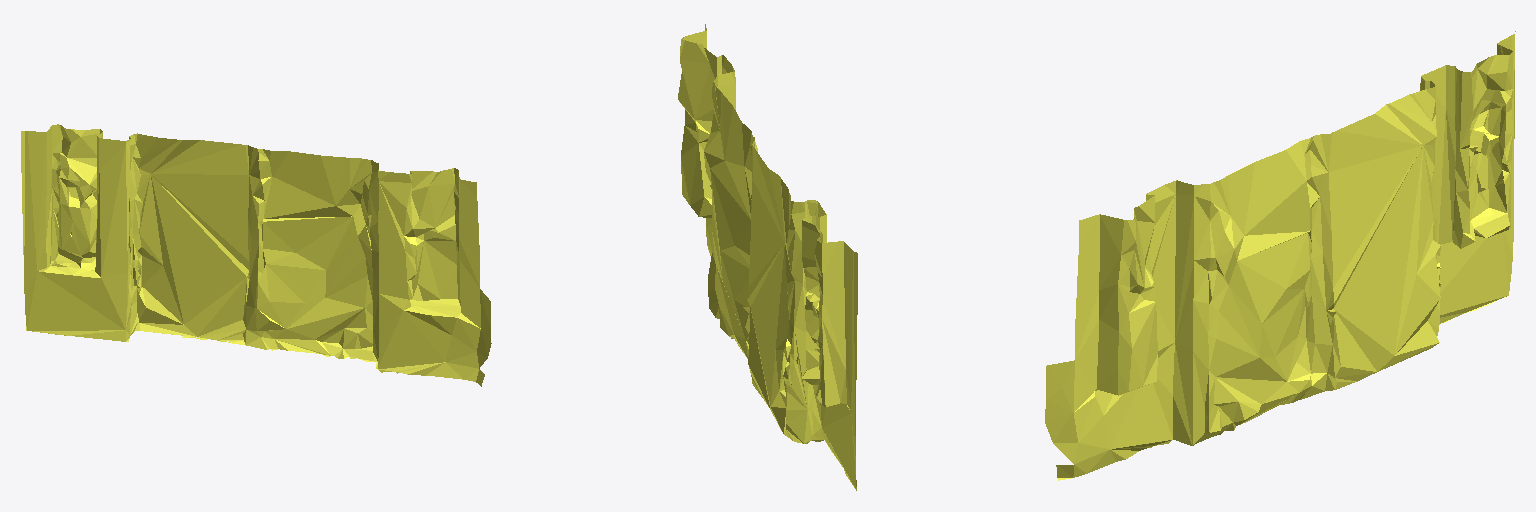
The robot description file, URDF, robot "env.urdf":
<?xml version="0.0" ?>
<robot name="env.urdf">
  <link name="baseLink">
    <contact>
      <lateral_friction value="1.0"/>
      <rolling_friction value="0.0"/>
      <contact_cfm value="0.0"/>
      <contact_erp value="1.0"/>
    </contact>
    <inertial>
      <origin rpy="0 0 0" xyz="0.0 0.02 0.0"/>
       <mass value="0"/>
       <inertia ixx="1" ixy="0" ixz="0" iyy="1" iyz="0" izz="1"/>
    </inertial>
    <visual>
      <origin rpy="0 0 0" xyz="0 0 0"/>
      <geometry>
        <mesh filename="frwall2.obj" scale="1 1 1"/>
      </geometry>
       <material name="yellow">
        <color rgba="1 1 0.4 1"/>
      </material>
    </visual>
    <collision>
      <origin rpy="0 0 0" xyz="0 0 0"/>
      <geometry>
	 	<mesh filename="frwall2.obj" scale="1 1 1"/>
      </geometry>
    </collision>
  </link>
</robot>

--- What the picture shows (computed from the rendered views, not written in the file) ---
The picture shows the robot from 3 angles, left to right: view 1: azimuth 30°, elevation 25°; view 2: azimuth 150°, elevation 25°; view 3: azimuth 270°, elevation 25°; orthographic projection.
Robot: env.urdf — 1 links, 0 joints (none); root link baseLink; default pose: all joints at 0.
Visible links, largest first — view 1: baseLink; view 2: baseLink; view 3: baseLink.
Link boxes in pixels (x1,y1,x2,y2): baseLink: (21, 124, 491, 386); baseLink: (678, 24, 857, 490); baseLink: (1045, 31, 1515, 480).
Bounding box of the posed robot: 2.29 × 2.41 × 1.5 m (x, y, z).
Meshes: 1 distinct files referenced, 1 mesh visuals loaded (1 OBJ).